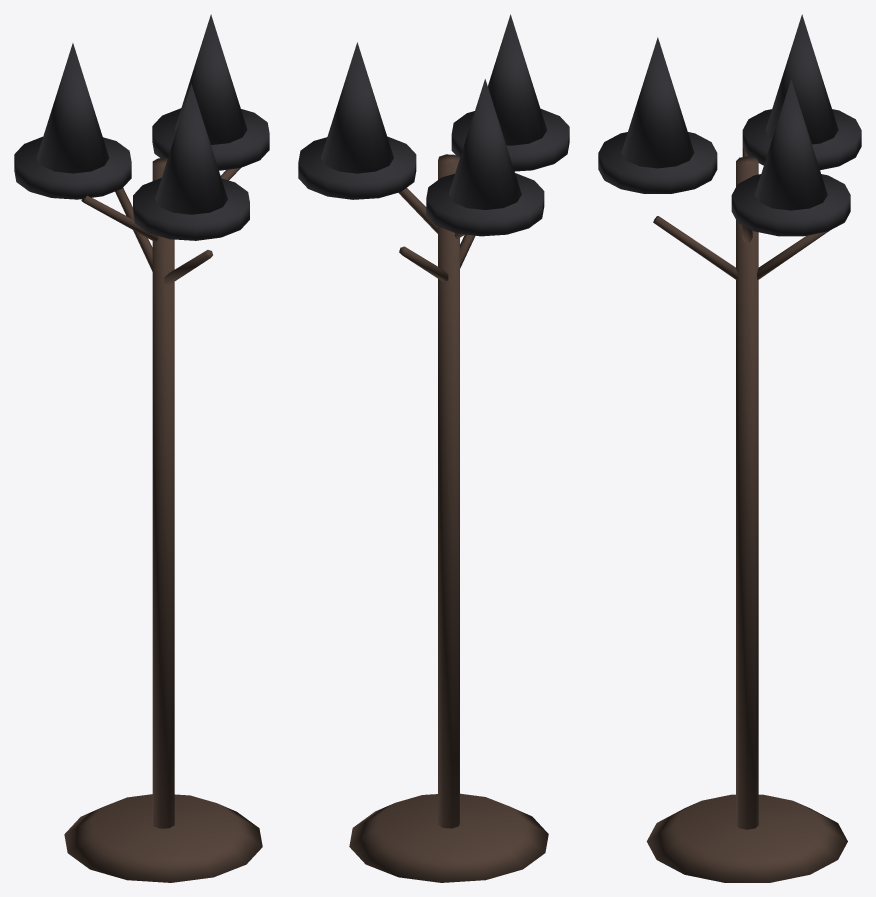
File: hat_stand_pointed_hats.glb
The picture shows the model from 3 angles, left to right: view 1: azimuth 30°, elevation 25°; view 2: azimuth 150°, elevation 25°; view 3: azimuth 270°, elevation 25°; orthographic projection.
Parts seen in each view (by area): view 1: GD_hat_stand_pointed_hats__m0, GD_hat_stand_pointed_hats__m1; view 2: GD_hat_stand_pointed_hats__m0, GD_hat_stand_pointed_hats__m1; view 3: GD_hat_stand_pointed_hats__m0, GD_hat_stand_pointed_hats__m1.
Boxes of the visible parts, x1,y1,x2,y2 form: GD_hat_stand_pointed_hats__m0: (64, 158, 262, 882); GD_hat_stand_pointed_hats__m1: (14, 14, 269, 240); GD_hat_stand_pointed_hats__m0: (349, 154, 548, 882); GD_hat_stand_pointed_hats__m1: (298, 14, 569, 236); GD_hat_stand_pointed_hats__m0: (646, 147, 847, 882); GD_hat_stand_pointed_hats__m1: (598, 14, 861, 236).
Size of the model in its own units: 0.5892 by 1.92 by 0.5752.
